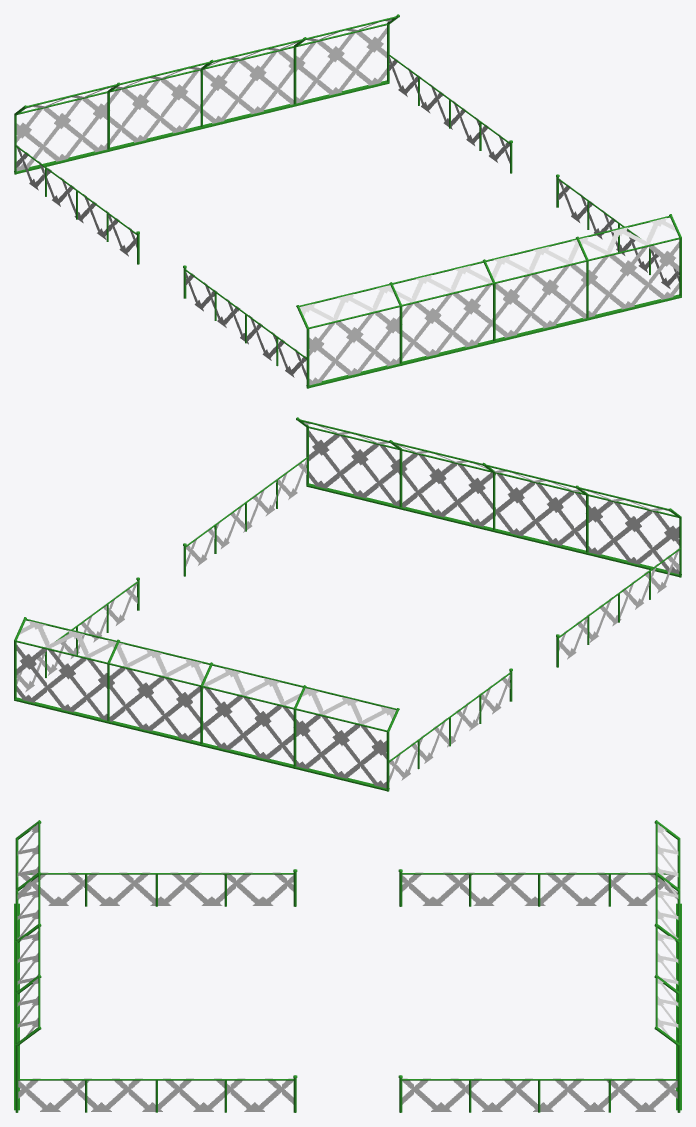
Rendered from SoccerFence.fbx.
The picture shows the model from 3 angles, top to bottom: view 1: azimuth 30°, elevation 25°; view 2: azimuth 150°, elevation 25°; view 3: azimuth 270°, elevation 25°; orthographic projection. The views are drawn at different scales.
Parts seen in each view (by area): view 1: SoccerFence; view 2: SoccerFence; view 3: SoccerFence.
Boxes of the visible parts, x1,y1,x2,y2 form: SoccerFence: (14, 14, 681, 388); SoccerFence: (14, 417, 681, 791); SoccerFence: (14, 820, 681, 1112).
Size of the model in its own units: 3339 by 643 by 4532.
